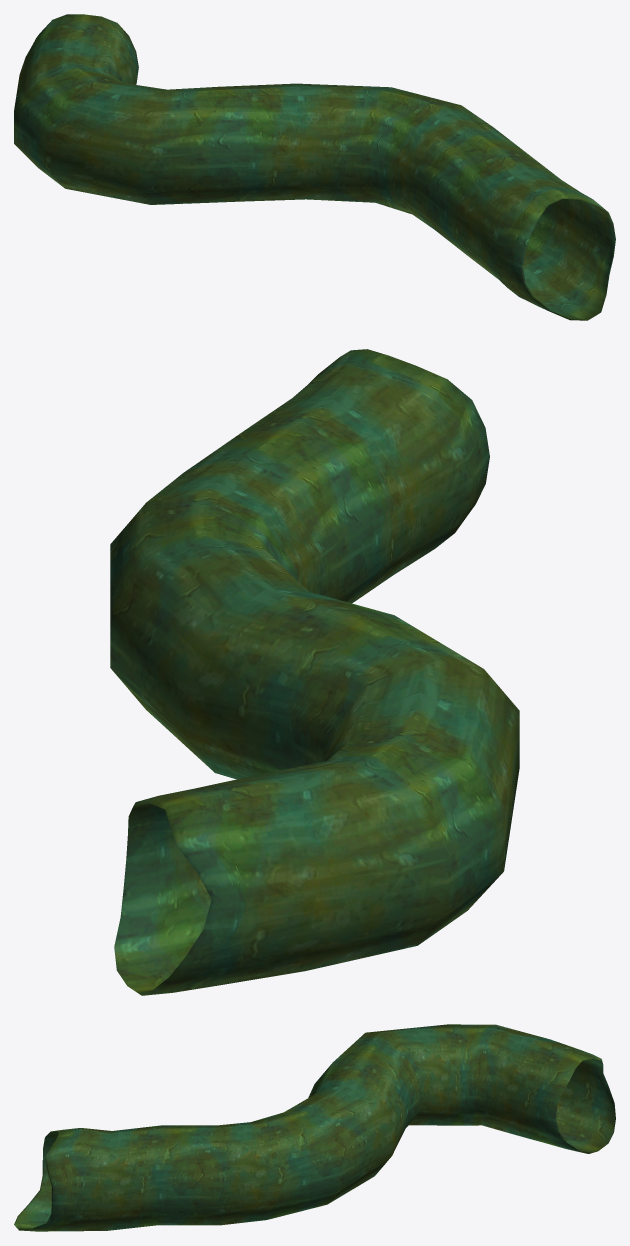
The model's file is MIRKWOOD_MIRK_PLAYSURFACE90.fbx.
3 renders of one model, top to bottom at view 1: azimuth 30°, elevation 25°; view 2: azimuth 150°, elevation 25°; view 3: azimuth 270°, elevation 25°, orthographic. The views are drawn at different scales.
Parts seen in each view (by area): view 1: MIRKWOOD_MIRK_PLAYSURFACE90; view 2: MIRKWOOD_MIRK_PLAYSURFACE90; view 3: MIRKWOOD_MIRK_PLAYSURFACE90.
Part boxes in pixels (box(x1,y1,x2,y2)): MIRKWOOD_MIRK_PLAYSURFACE90: box(14, 14, 615, 320); MIRKWOOD_MIRK_PLAYSURFACE90: box(110, 349, 519, 995); MIRKWOOD_MIRK_PLAYSURFACE90: box(14, 1024, 615, 1231).
Size of the model in its own units: 156740 by 53960 by 276796.
1 material, 1 textured.
